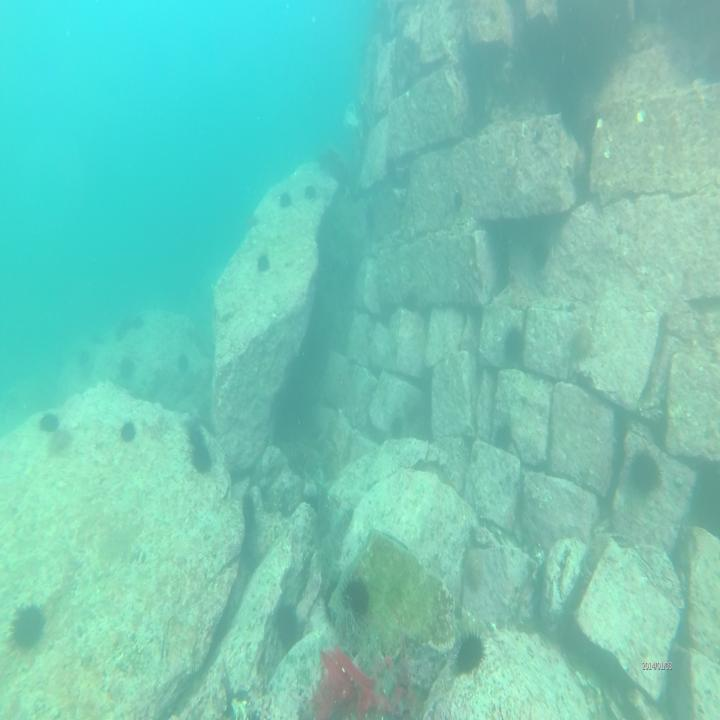echinus: (3, 599, 57, 664), (627, 443, 667, 503), (454, 624, 490, 680), (271, 598, 298, 654), (338, 576, 368, 620), (503, 323, 526, 370), (570, 326, 592, 367), (190, 441, 214, 478), (530, 235, 552, 274), (47, 424, 74, 455), (492, 419, 513, 456), (240, 490, 256, 531), (36, 411, 62, 433), (388, 415, 406, 445), (73, 345, 92, 371), (114, 310, 131, 339), (119, 419, 137, 445), (119, 355, 134, 386), (364, 199, 376, 237), (185, 424, 204, 448), (176, 350, 192, 378), (452, 187, 466, 218), (254, 251, 270, 274), (278, 190, 293, 212), (131, 312, 146, 332), (245, 211, 260, 228), (304, 183, 318, 201)
